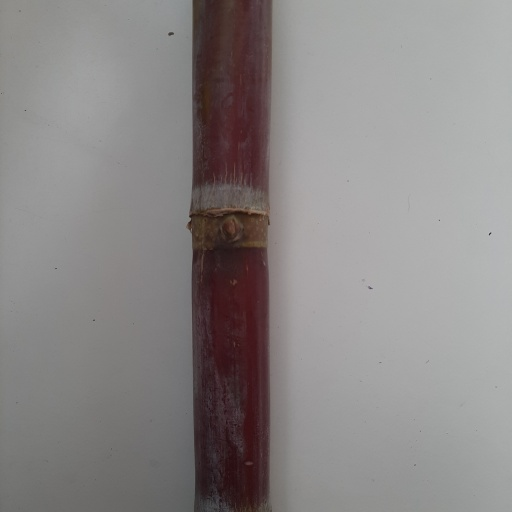Bud: (218, 211, 244, 246)
